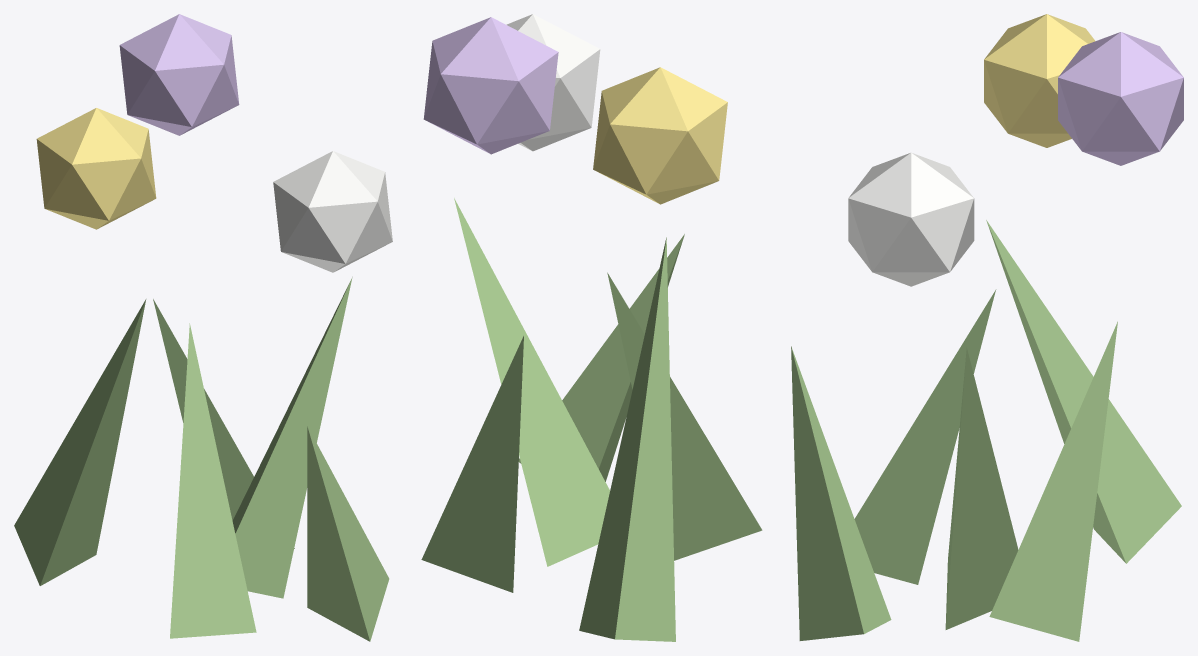
The model's file is flower_tuft.glb.
3 renders of one model, left to right at view 1: azimuth 30°, elevation 25°; view 2: azimuth 150°, elevation 25°; view 3: azimuth 270°, elevation 25°, orthographic. The views are drawn at different scales.
Visible parts, largest first — view 1: flower_tuft; view 2: flower_tuft; view 3: flower_tuft.
Part boxes in pixels (box(x1,y1,x2,y2)): flower_tuft: box(14, 14, 392, 641); flower_tuft: box(421, 14, 762, 641); flower_tuft: box(791, 14, 1183, 641).
Size of the model in its own units: 0.2873 by 0.5265 by 0.3184.
